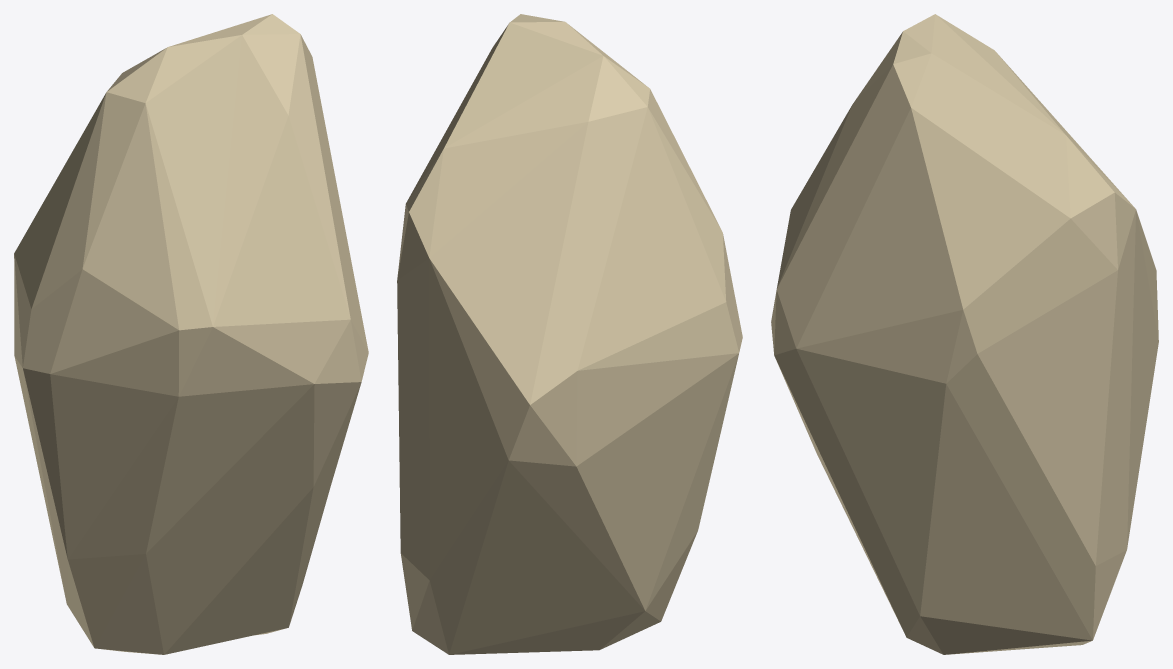
The model's file is stone_002.fbx.
The picture shows the model from 3 angles, left to right: view 1: azimuth 30°, elevation 25°; view 2: azimuth 150°, elevation 25°; view 3: azimuth 270°, elevation 25°; orthographic projection. The views are drawn at different scales.
Parts seen in each view (by area): view 1: Icosphere.003; view 2: Icosphere.003; view 3: Icosphere.003.
Part boxes in pixels (bbox=[...]): Icosphere.003: bbox=[14, 14, 368, 654]; Icosphere.003: bbox=[397, 14, 742, 654]; Icosphere.003: bbox=[771, 14, 1158, 654].
Bounding box in the file's own units: 1.08 × 1.94 × 1.13.
